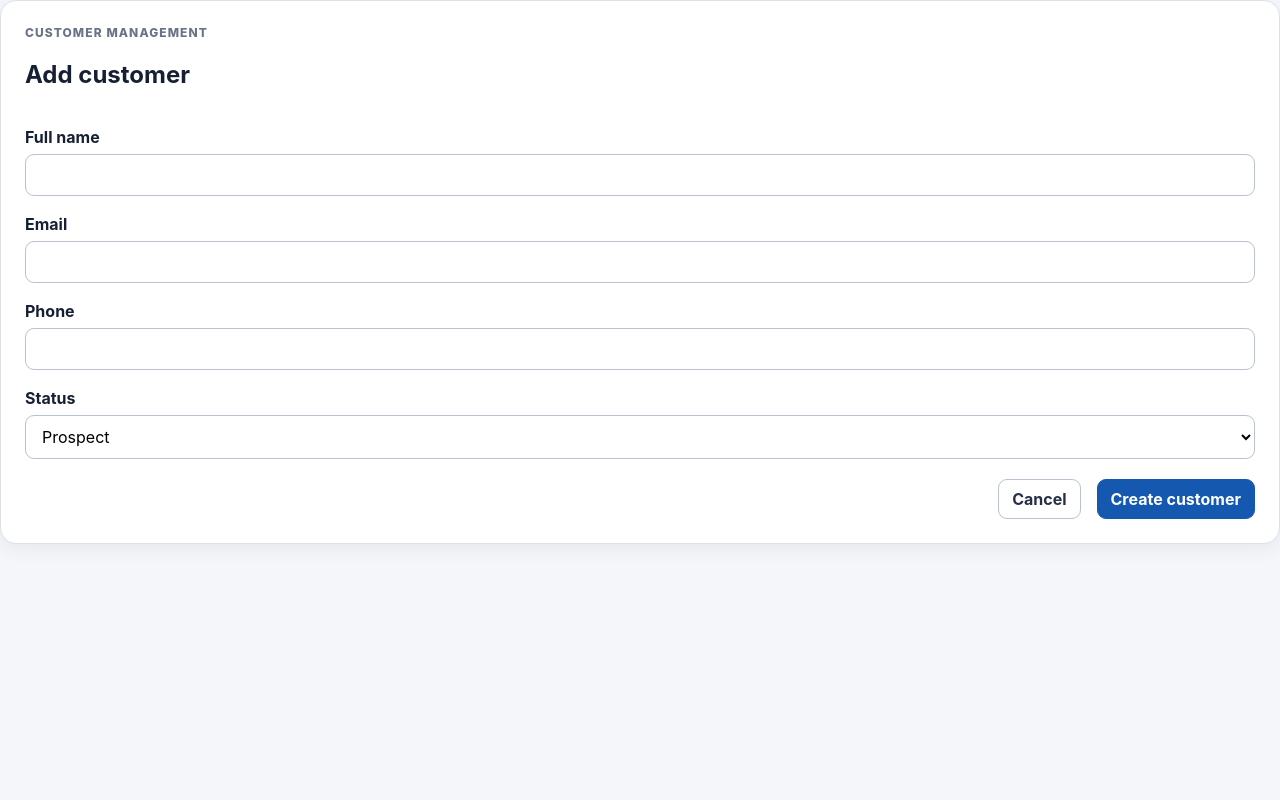
Test: CustomerForm › requires a full name
The image size is (1280, 800).
Click the button "Create customer" at (1176, 499), box [1096,479,1255,519]
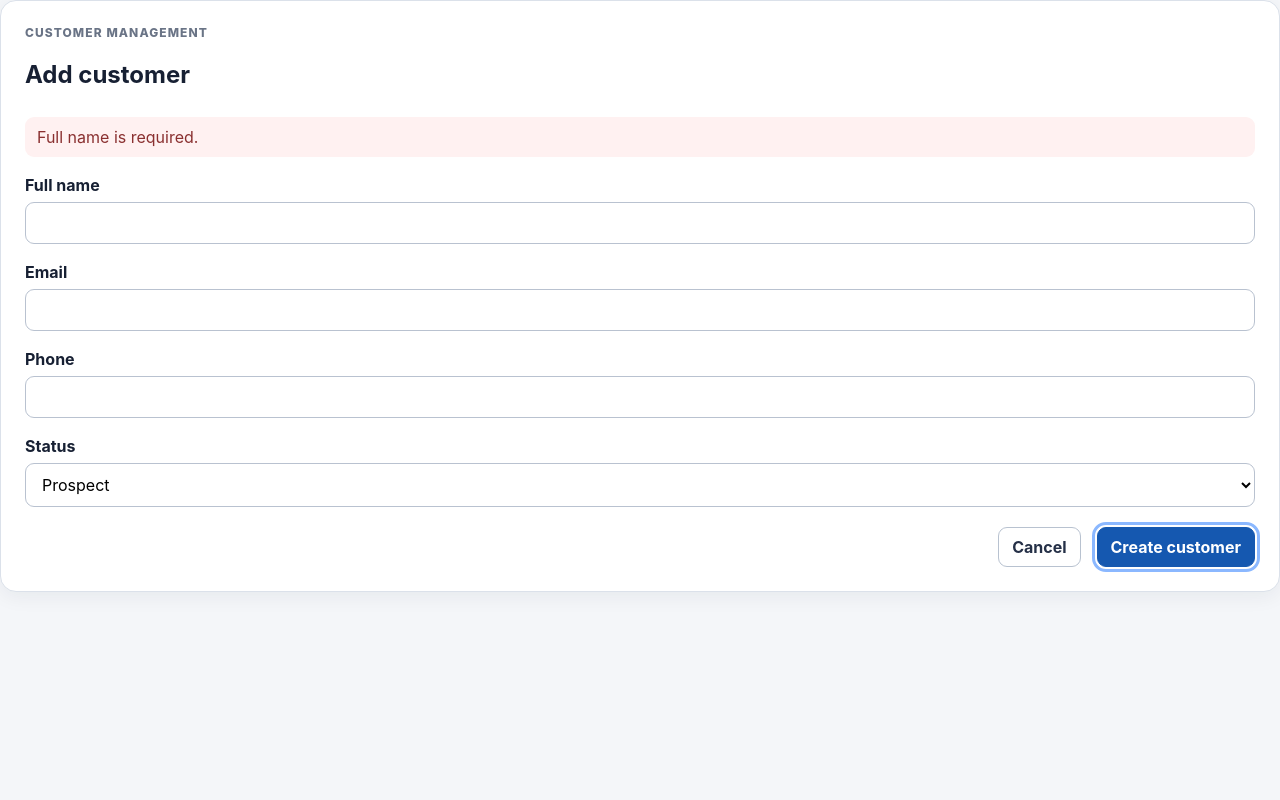
Now the message reads "Full name is required.", box [37,127,198,147]
